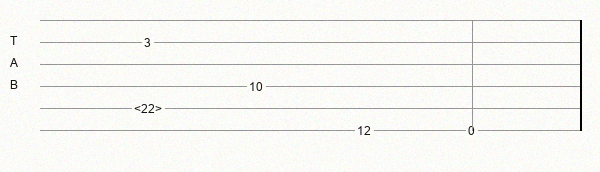0: (468, 124, 479, 137)
10: (249, 80, 267, 93)
12: (357, 124, 375, 137)
3: (144, 36, 155, 49)
harmonic: (134, 102, 166, 115)
